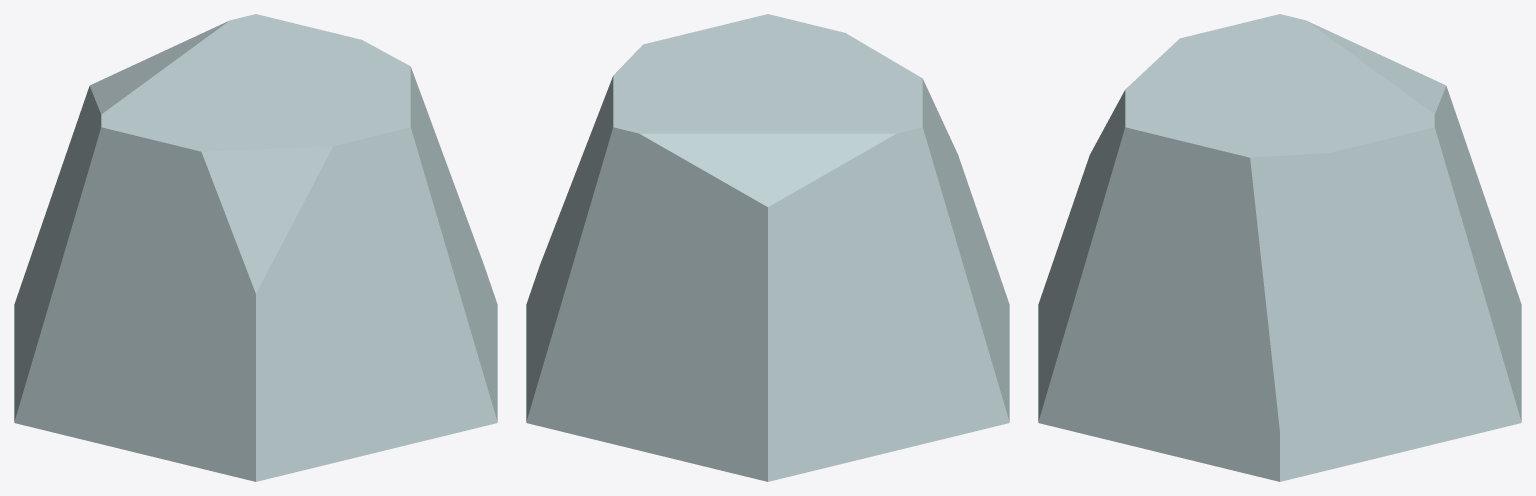
Rendered from stone_smallD.fbx.
3 renders of one model, left to right at view 1: azimuth 30°, elevation 25°; view 2: azimuth 150°, elevation 25°; view 3: azimuth 270°, elevation 25°, orthographic.
Parts seen in each view (by area): view 1: stone_smallD_LOD0; view 2: stone_smallD_LOD0; view 3: stone_smallD_LOD0.
Part boxes in pixels (x1=…): stone_smallD_LOD0: x1=14, y1=14, x2=497, y2=481; stone_smallD_LOD0: x1=526, y1=14, x2=1009, y2=481; stone_smallD_LOD0: x1=1038, y1=14, x2=1521, y2=481.
Size of what is drawn, in the model's own units: 42.57 by 23.09 by 36.87.
